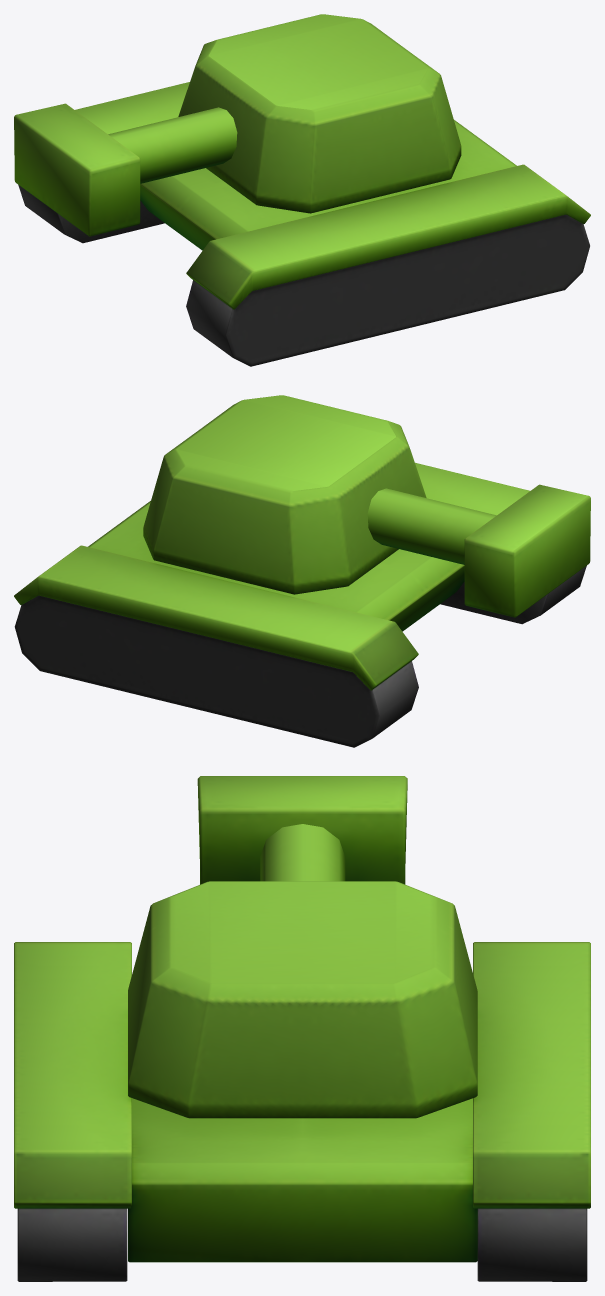
The model's file is Tank.FBX.
3 views of the same model, one above another, from view 1: azimuth 30°, elevation 25°; view 2: azimuth 150°, elevation 25°; view 3: azimuth 270°, elevation 25° (orthographic). The views are drawn at different scales.
Visible parts, largest first — view 1: Tank, Tank_Head; view 2: Tank, Tank_Head; view 3: Tank, Tank_Head.
Part boxes in pixels (<box>): Tank: <box>18,82,590,366</box>; Tank_Head: <box>14,14,461,236</box>; Tank: <box>14,462,586,747</box>; Tank_Head: <box>143,395,590,617</box>; Tank: <box>14,942,590,1281</box>; Tank_Head: <box>128,776,477,1118</box>.
Size of the model in its own units: 71.66 by 29.37 by 60.29.
Materials: 1 (1 with a texture image).
